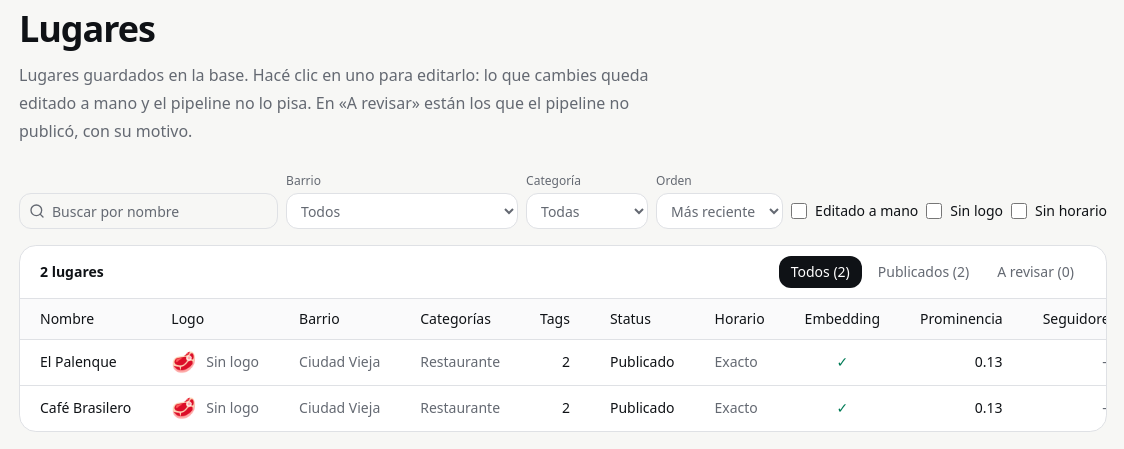
Test case: SavedPlacesPage › busca por nombre en el servidor, sin acentos
Expected: the text "2 lugares" is shown, [40,262,104,282]
Type "cafe" into the field with placeholder "Buscar por nombre". click: (149, 211)
box: [19,193,278,229]
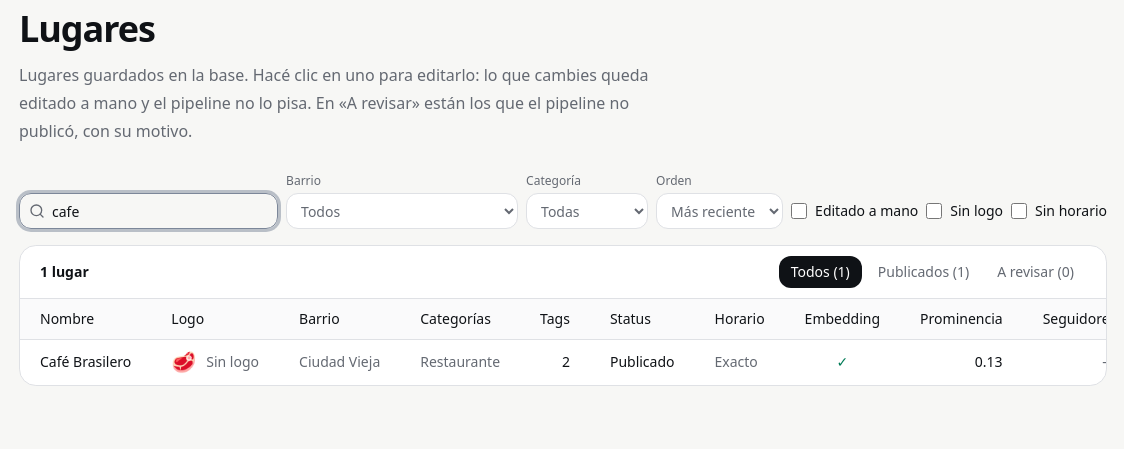
Now the message reads "1 lugar", box [40,262,89,281]
